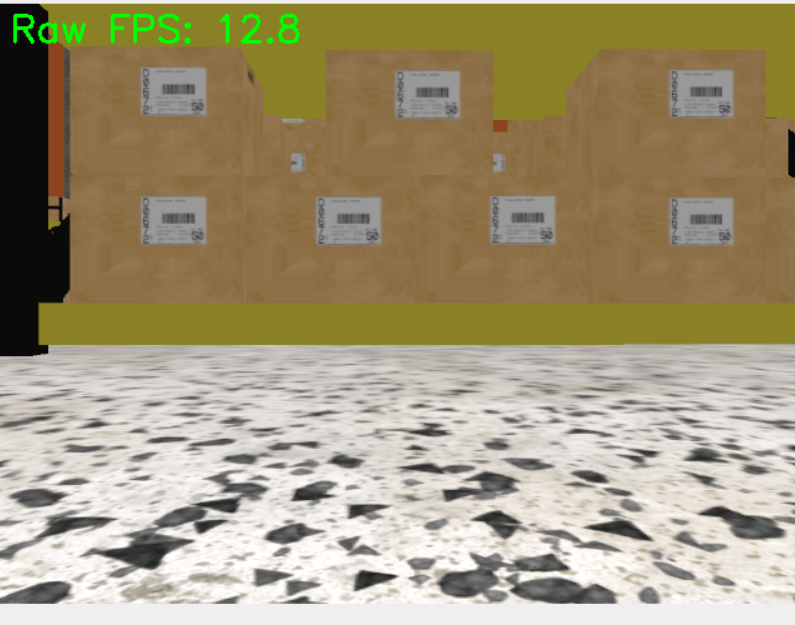barcode: (667, 195, 737, 248), (140, 194, 208, 247), (140, 65, 207, 118), (666, 68, 736, 118), (394, 70, 462, 121), (490, 194, 556, 245), (315, 195, 381, 245)
